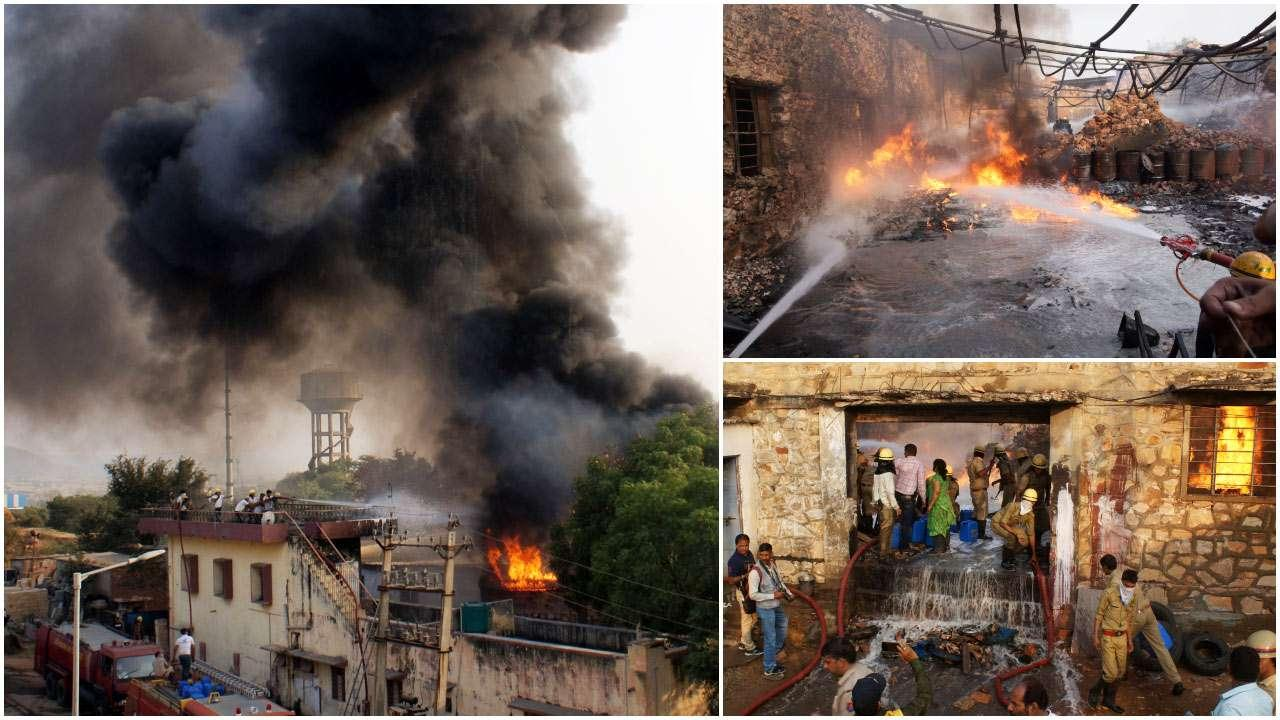Fire: (946, 115, 1142, 237), (1175, 402, 1269, 498), (830, 107, 918, 203), (470, 521, 566, 595)
